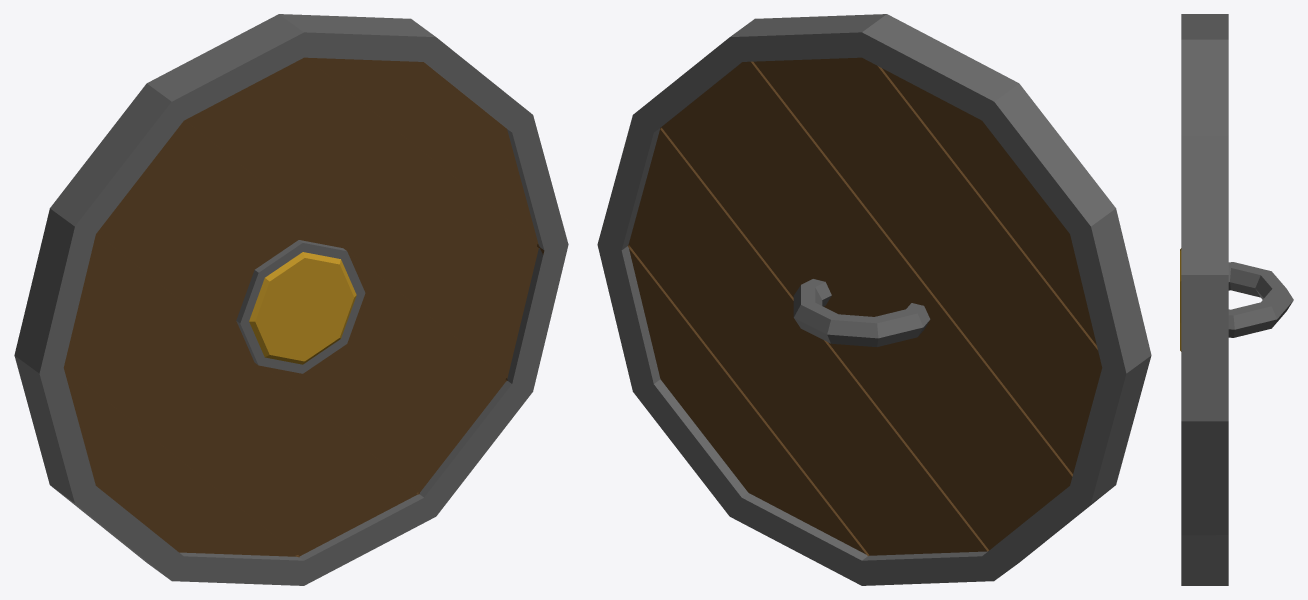
The model's file is shield.glb.
3 renders of one model, left to right at view 1: azimuth 30°, elevation 25°; view 2: azimuth 150°, elevation 25°; view 3: azimuth 270°, elevation 25°, orthographic. The views are drawn at different scales.
Parts seen in each view (by area): view 1: Base_Material.001_0, Base_Material.002_0, Base_Material.003_0; view 2: Base_Material.001_0, Base_Material.002_0; view 3: Base_Material.002_0, Base_Material.003_0.
Boxes of the visible parts, x1,y1,x2,y2 form: Base_Material.001_0: (63, 57, 544, 557); Base_Material.002_0: (14, 14, 568, 585); Base_Material.003_0: (249, 252, 356, 364); Base_Material.001_0: (628, 57, 1102, 555); Base_Material.002_0: (597, 14, 1151, 585); Base_Material.002_0: (1181, 14, 1293, 585); Base_Material.003_0: (1180, 248, 1181, 351).
Size of the model in its own units: 2 by 2 by 0.3966.
